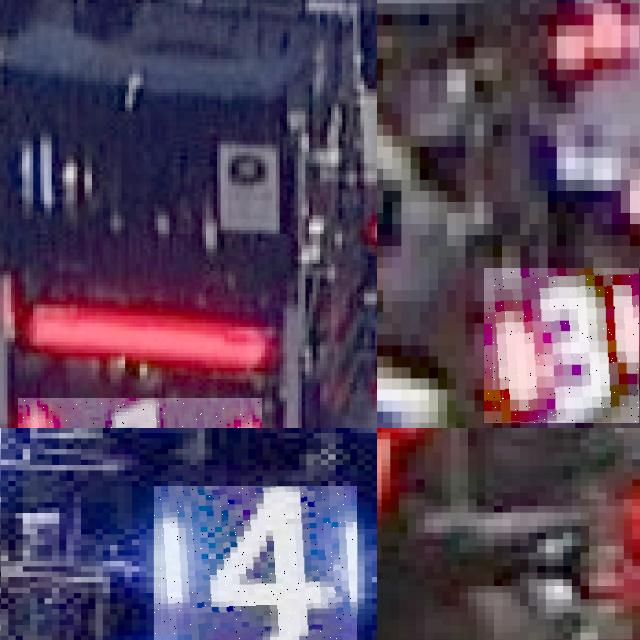B4: (153, 486, 357, 640)
R1: (18, 397, 261, 428)
R3: (484, 268, 639, 423)
